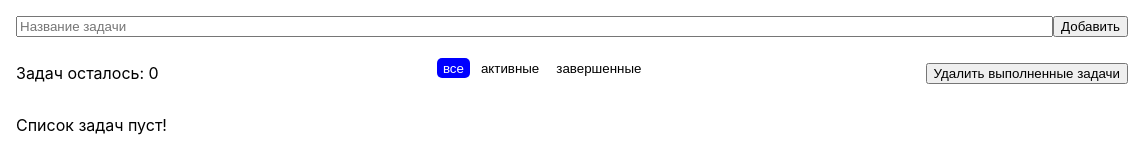
Test: Todo component › todos with 1 item
The image size is (1145, 160).
In the field with placeholder "Название задачи": [535, 26] box [16,16,1053,37], type "Задача 1"
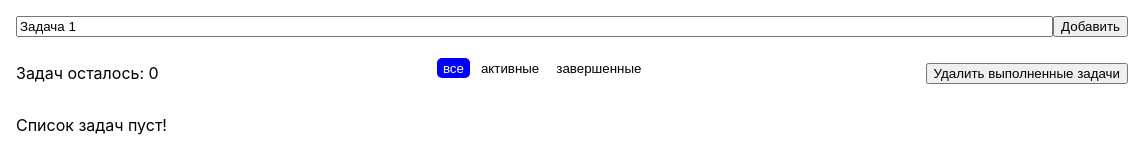
Submit the form from the field with placeholder "Название задачи", box [16,16,1053,37]
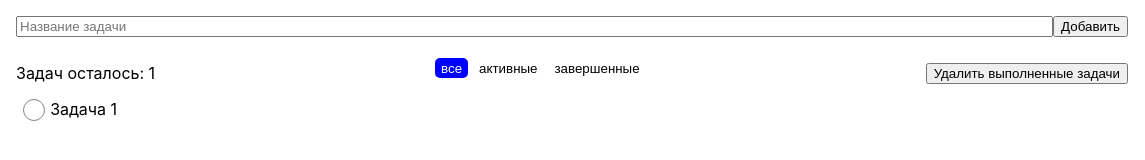
Now the checkbox is shown, box [23,99,117,121]
